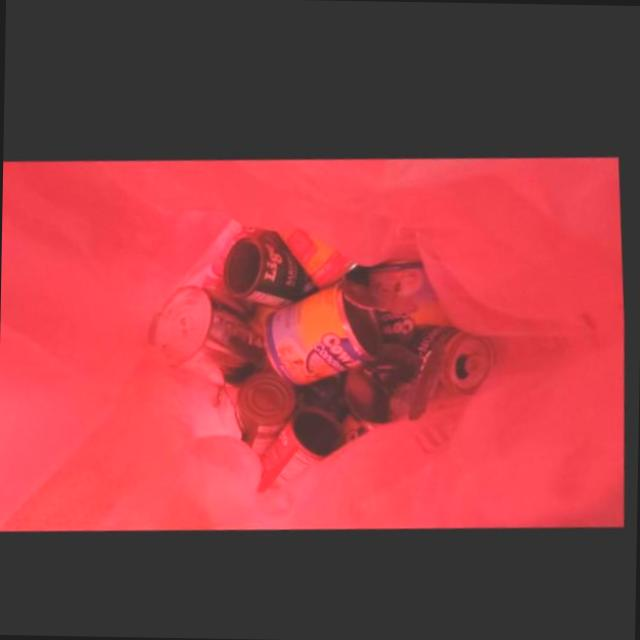nhom: (277, 277, 423, 380), (157, 280, 272, 379), (348, 338, 447, 419), (259, 401, 347, 487), (227, 233, 323, 302), (239, 367, 299, 458), (417, 322, 496, 391), (283, 225, 362, 285)
